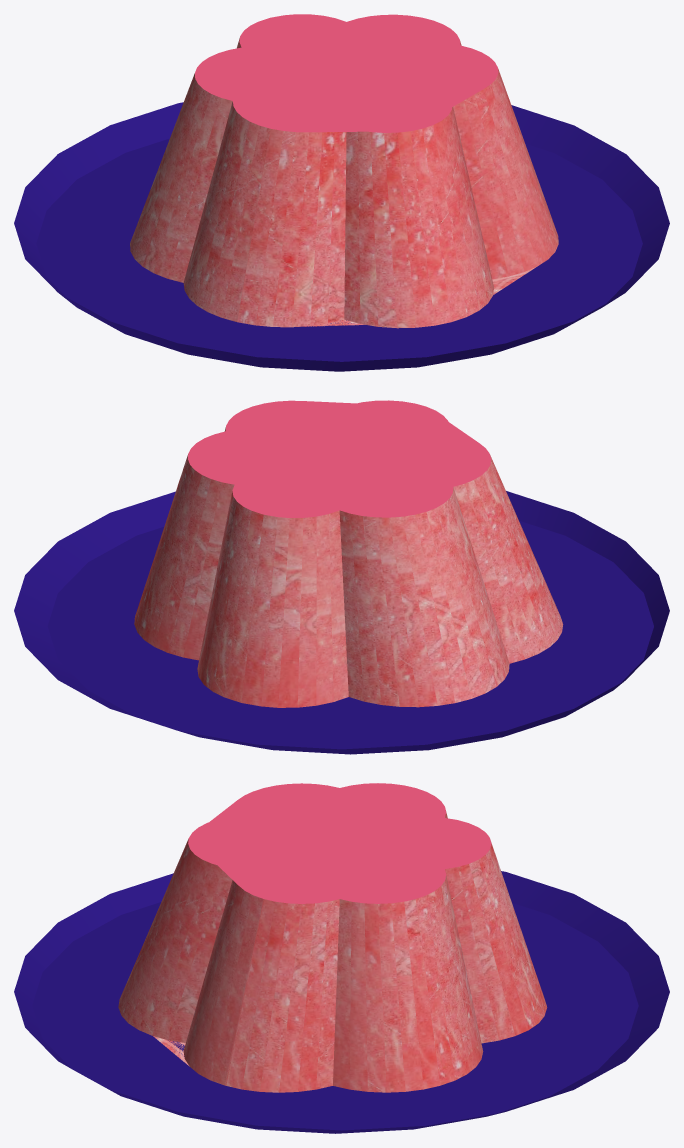
Rendered from puding.fbx.
3 renders of one model, top to bottom at view 1: azimuth 30°, elevation 25°; view 2: azimuth 150°, elevation 25°; view 3: azimuth 270°, elevation 25°, orthographic.
Visible parts, largest first — view 1: pudink jink; view 2: pudink jink; view 3: pudink jink.
Part boxes in pixels (box(x1,y1,x2,y2)): pudink jink: box(14, 14, 669, 371); pudink jink: box(14, 400, 669, 754); pudink jink: box(14, 783, 669, 1133).
Bounding box in the file's own units: 4058 × 1137 × 4058.
